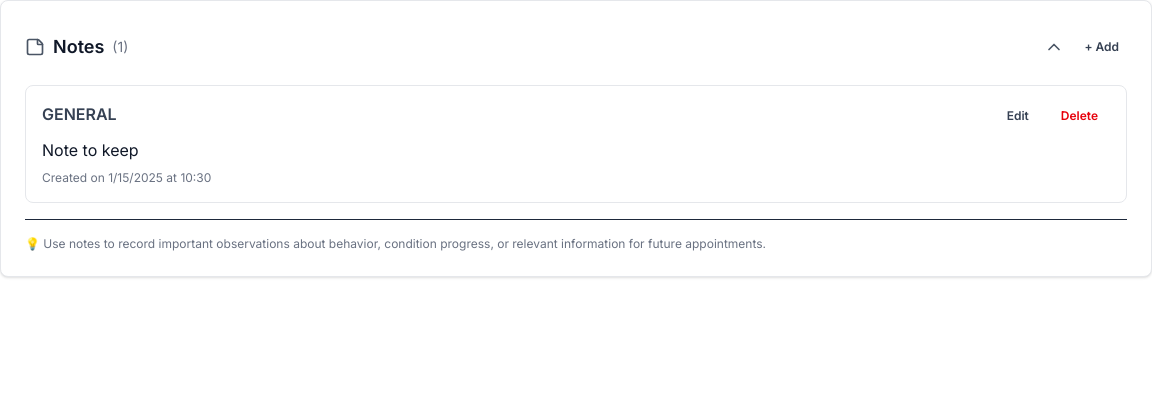
Test: PatientNotesCard › allows canceling note deletion
The width and height of the screenshot is (1152, 405).
Expected: the text "Note to keep" is shown, top-left (42, 140), bottom-right (139, 160)
Click delete button
Click the button "Delete": (1079, 116) top-left (1049, 102), bottom-right (1110, 130)
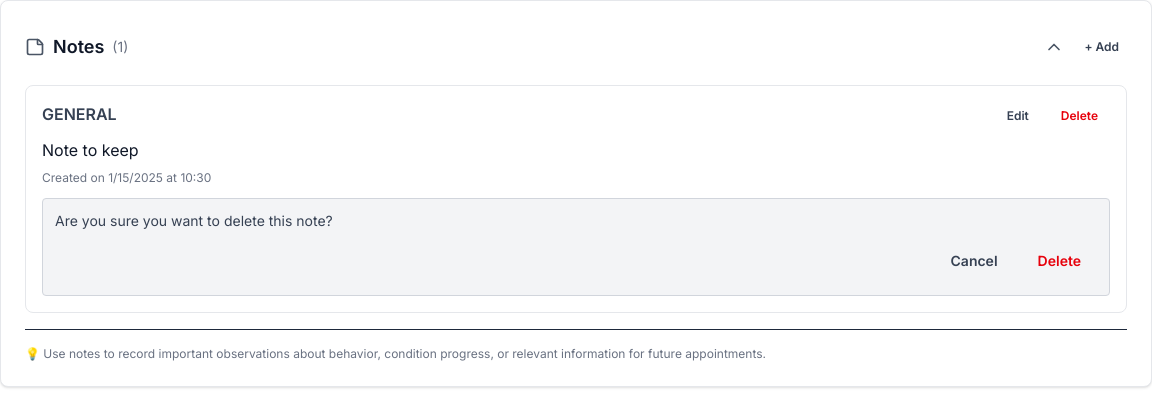
Expected: the text "Are you sure you want to delete this note?" is shown, top-left (55, 212), bottom-right (333, 229)
Cancel deletion
Click the button "Cancel": (974, 261) top-left (934, 239), bottom-right (1014, 283)
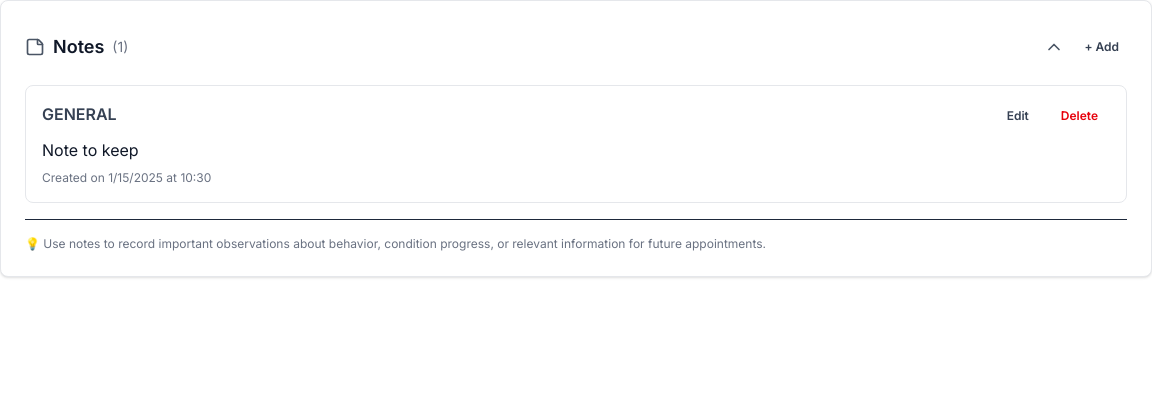
Expected: the text "Note to keep" is shown, top-left (42, 140), bottom-right (139, 160)
Expected: the text "Are you sure you want to delete this note?" is gone
